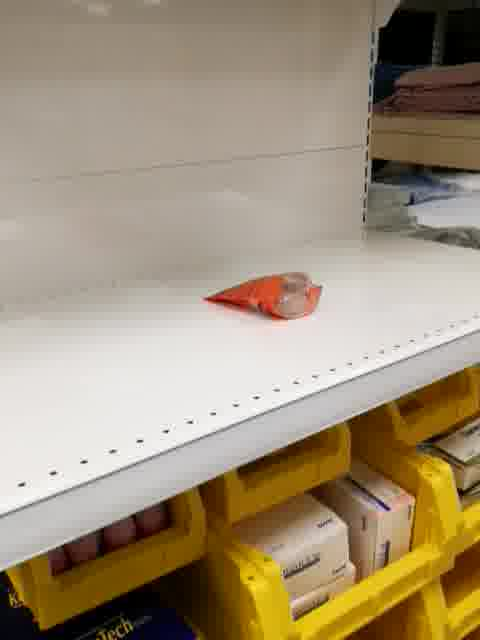whitechia: (203, 269, 324, 322)
